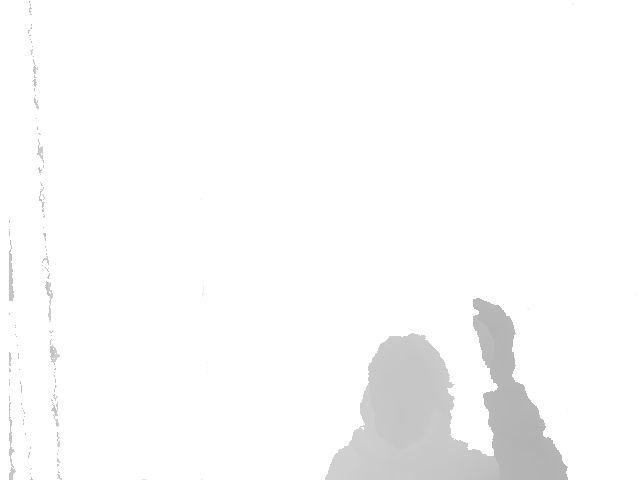hand: (467, 296, 521, 382)
head: (352, 330, 458, 451)
person: (326, 295, 571, 480)
